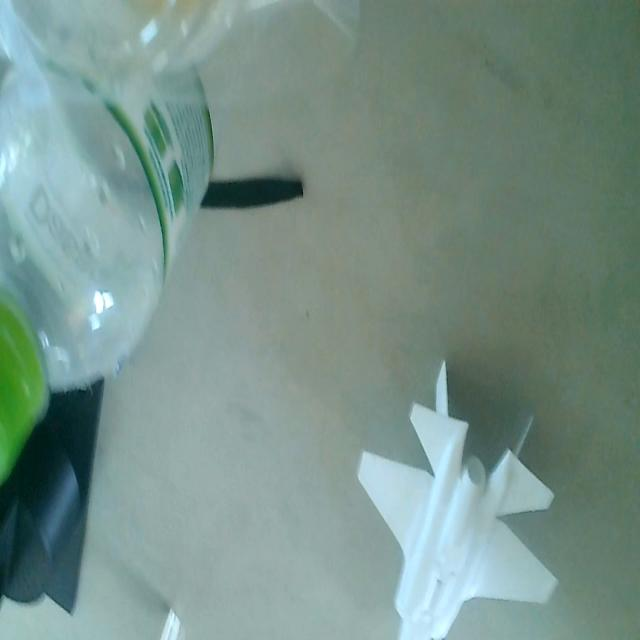Jet: (345, 355, 562, 640)
